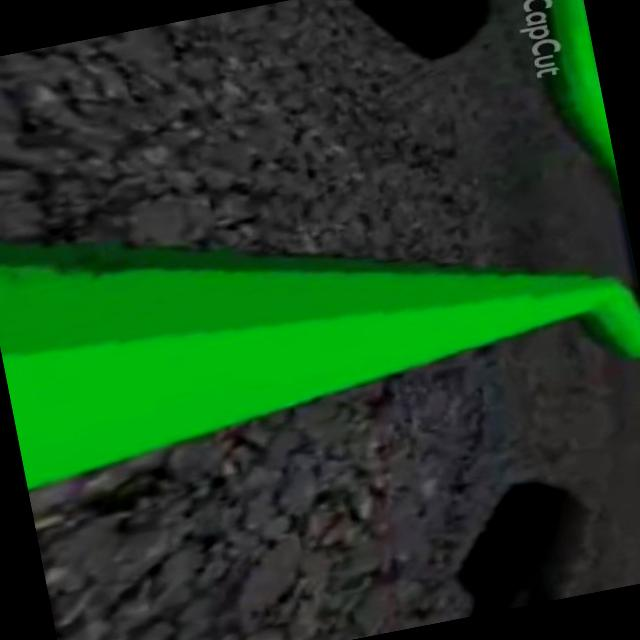gas: (0, 122, 603, 495)
